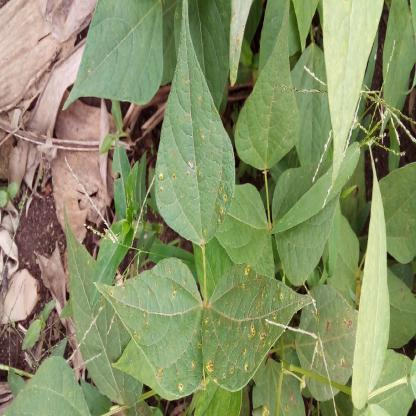Beans_Rust: (150, 0, 233, 245), (93, 256, 206, 396), (204, 262, 307, 390), (292, 281, 370, 396)
